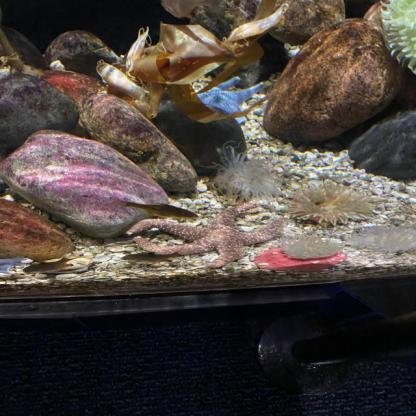fish: (107, 196, 199, 222)
starfish: (126, 198, 282, 270), (191, 74, 267, 127), (0, 258, 32, 278)
